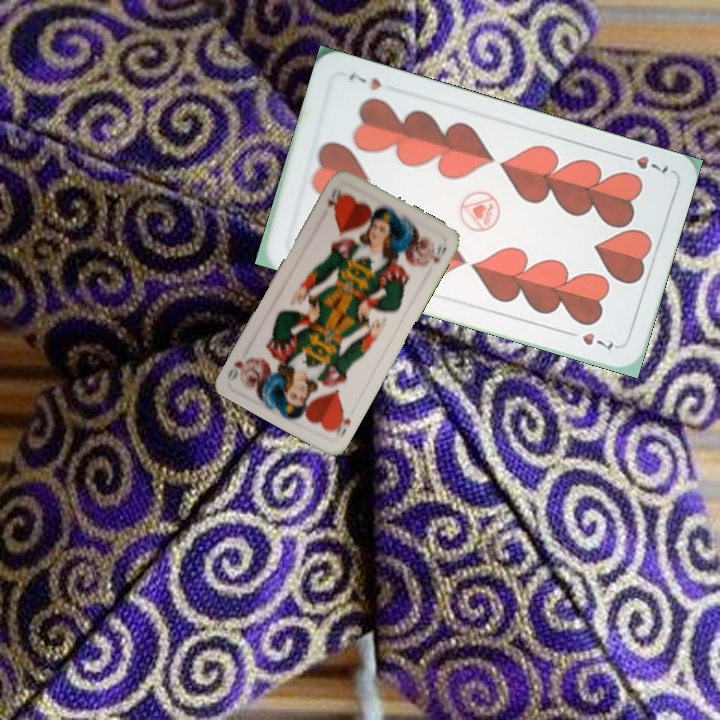H7: (615, 150, 671, 176)
HO: (328, 406, 354, 441), (323, 183, 344, 212)
